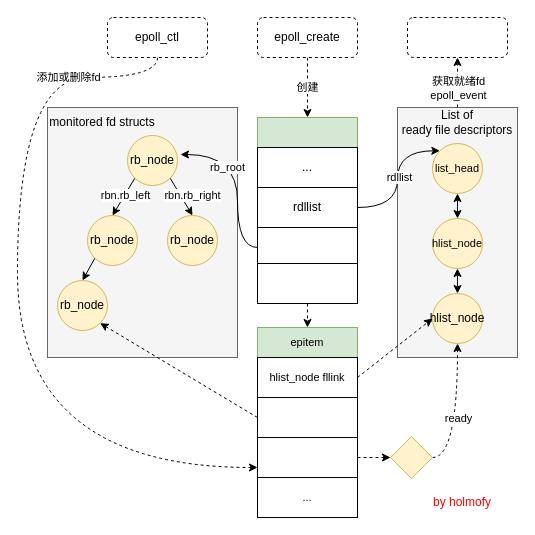
This 535x535 diagram has some shape labels left out. The shapes that lost their labels are listed below. From the top down, each one's centre as x and y in pixels, then its label:
At [457,37]: "epoll_wait".
At [307,132]: "eventpoll".
At [307,247]: "rbr".
At [307,283]: "ovflist".
At [307,417]: "rb_node rbn".
At [307,457]: "epoll_filefd ffd".
At [411,457]: "fd".
